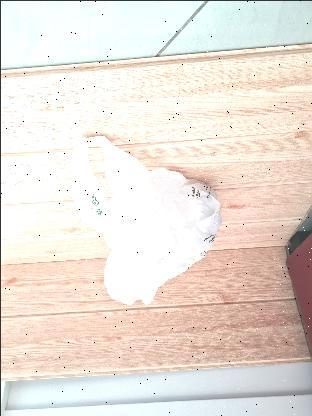Others: (59, 123, 225, 311)
